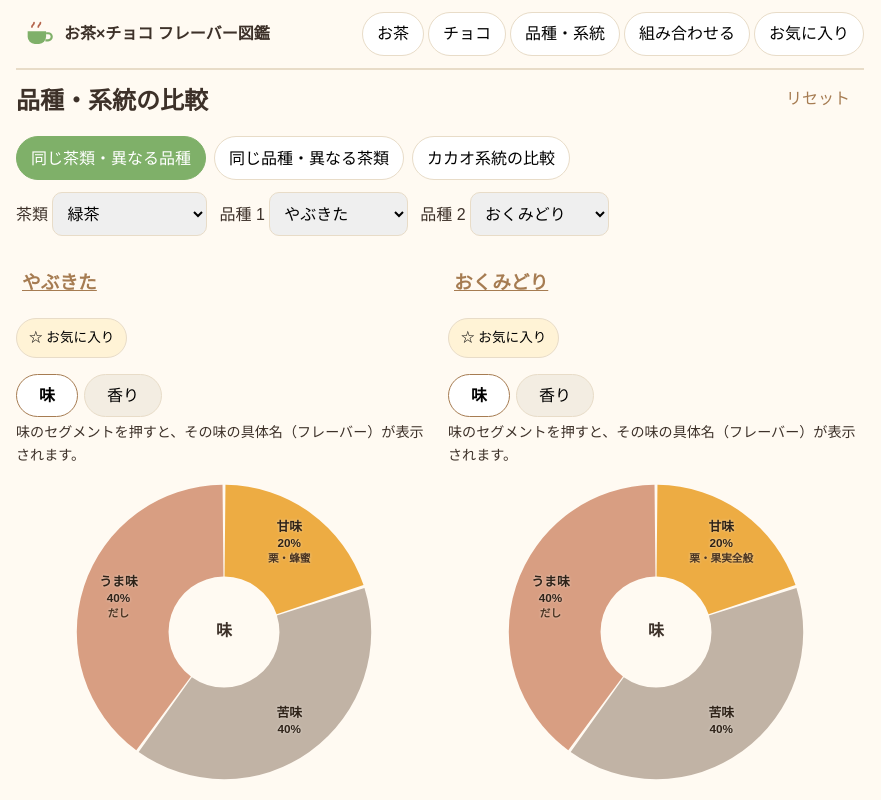
Test: 品種・系統データベースの画面連携 › 品種・系統の比較のリセットで、モードと各プルダウンが開いた直後の既定に戻る（第20弾）
Expected: the dropdown labelled "品種 1" shows "やぶきた", [269,192,408,236]
Expected: the dropdown labelled "品種 2" shows "おくみどり", [470,192,609,236]
// 茶類を別のものに変え、カカオ系統モードでも系統を変える
Select "白茶" in the dropdown labelled "茶類": [130, 214] box [52,192,208,236]
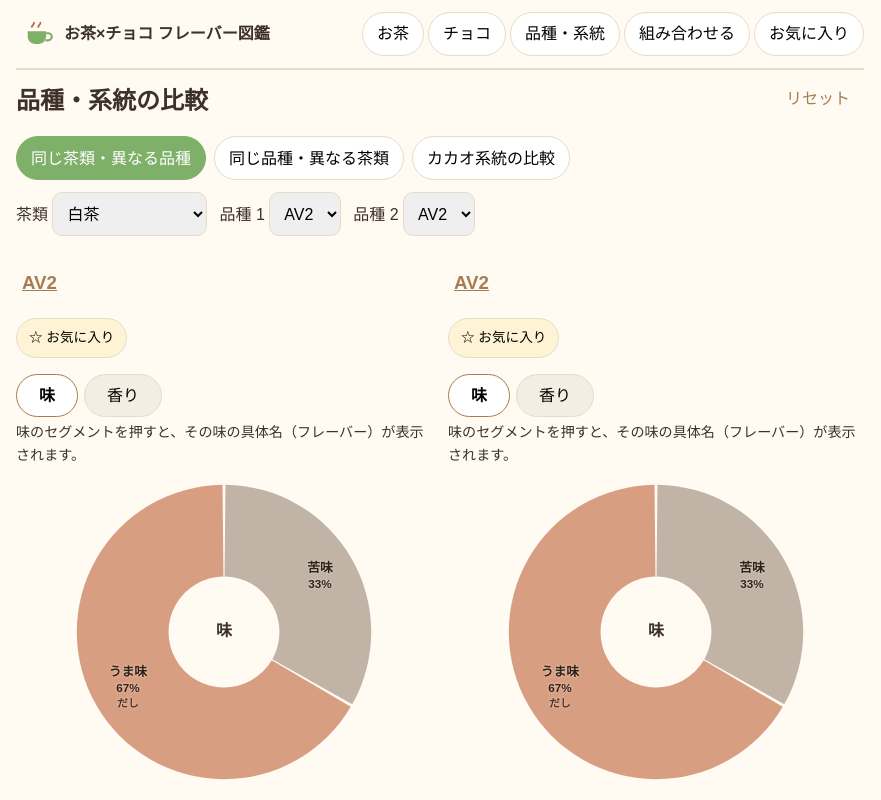
Click the button "カカオ系統の比較": [491, 158] box [412,136,570,180]
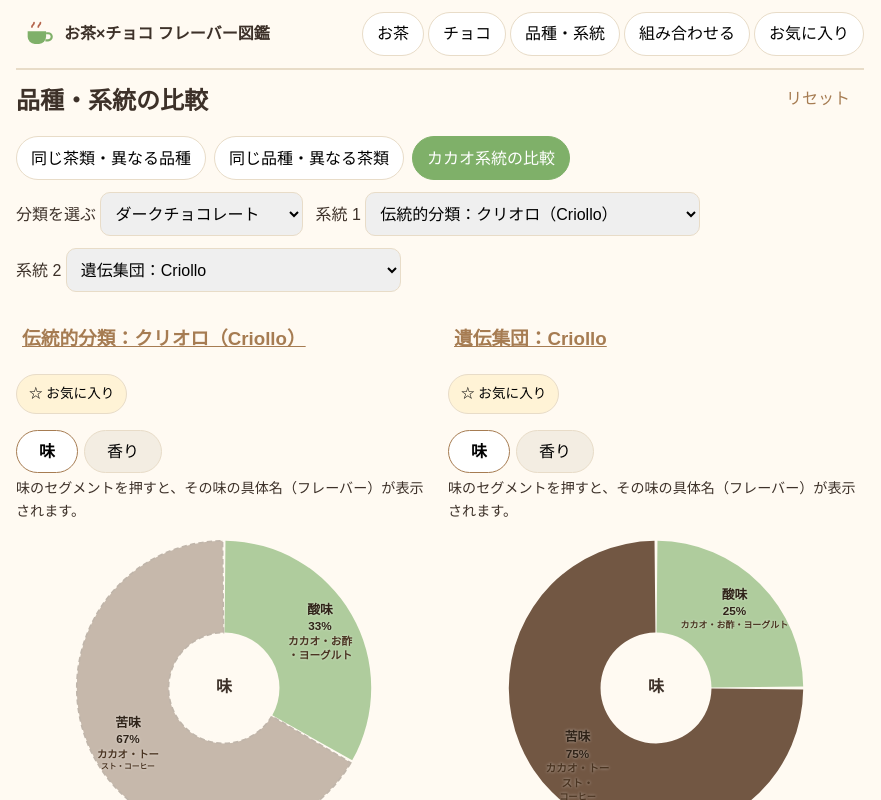
Select "遺伝集団：Nacional" in the dropdown labelled "系統 1": [533, 214] box [365,192,700,236]
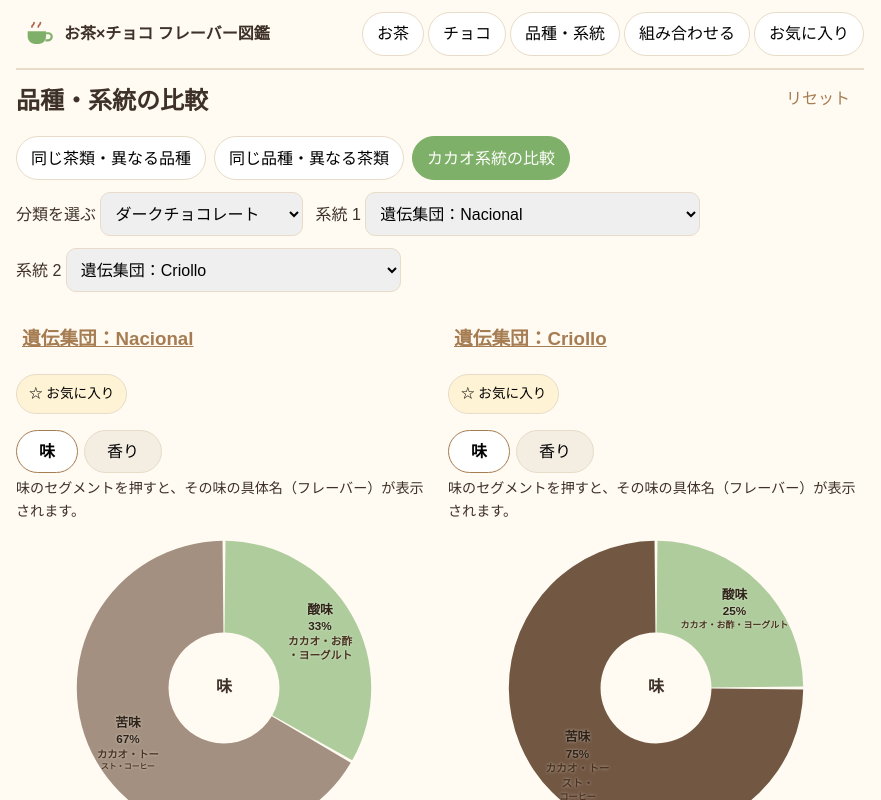
Click the button "リセット": [825, 99] box [786,77,864,121]
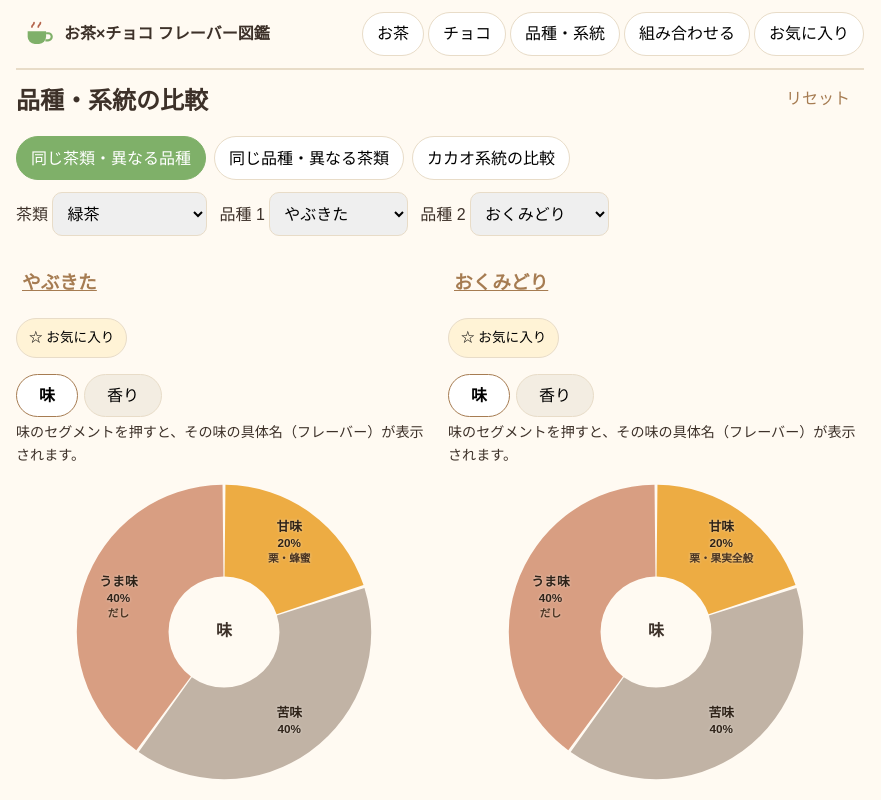
Expected: the dropdown labelled "茶類" shows "緑茶", [52,192,208,236]
Expected: the dropdown labelled "品種 1" shows "やぶきた", [269,192,408,236]
Expected: the dropdown labelled "品種 2" shows "おくみどり", [470,192,609,236]
// カカオモード側の選択も初期値（系統 1＝0、系統 2＝3）に戻っている
Click the button "カカオ系統の比較": [491, 158] box [412,136,570,180]
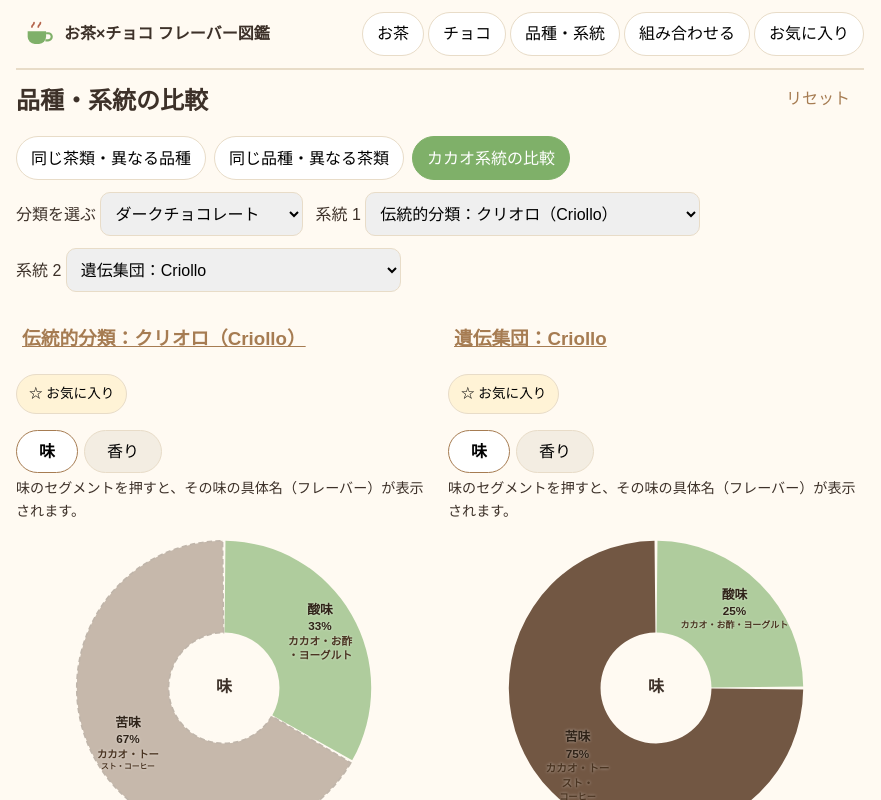
Expected: the dropdown labelled "系統 1" shows "伝統的分類：クリオロ（Criollo）", [365,192,700,236]
Expected: the dropdown labelled "系統 2" shows "遺伝集団：Criollo", [66,248,401,292]
